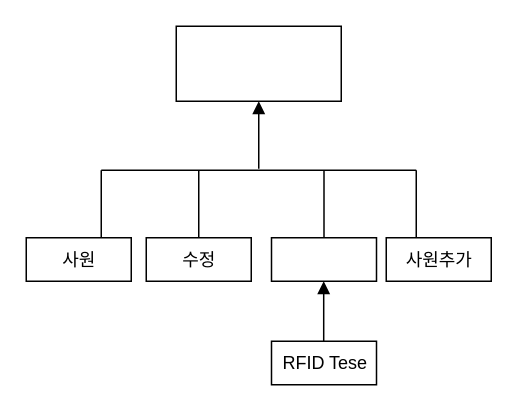
The diagram is 518 pixels wide and 411 high, and some of its shapes have lost their labels. The shapes that lost their labels are listed below. From the top down, each one's centre as x and y in pixels, then its label:
the point at 258,63: 사원리스트
the point at 323,258: 출, 퇴근
